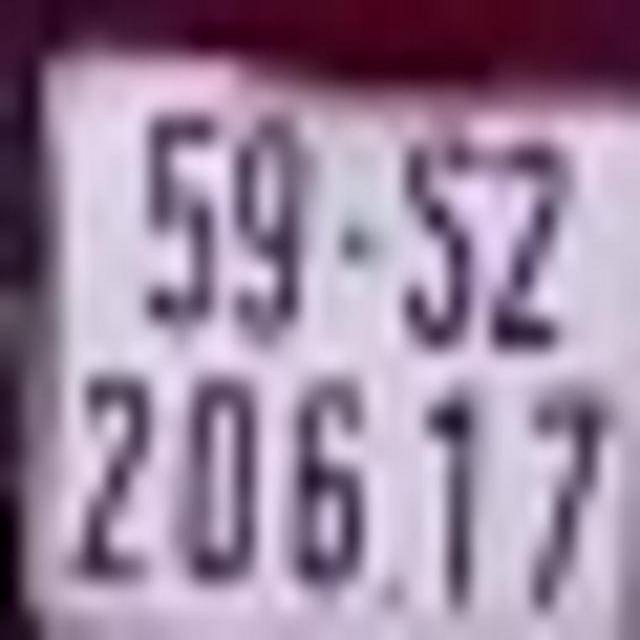0: (179, 364, 260, 588)
1: (411, 383, 490, 619)
2: (487, 128, 572, 354), (77, 360, 158, 592)
5: (136, 97, 222, 330)
6: (286, 362, 366, 594)
7: (520, 376, 612, 616)
9: (226, 105, 306, 345)
S: (396, 122, 480, 353)
